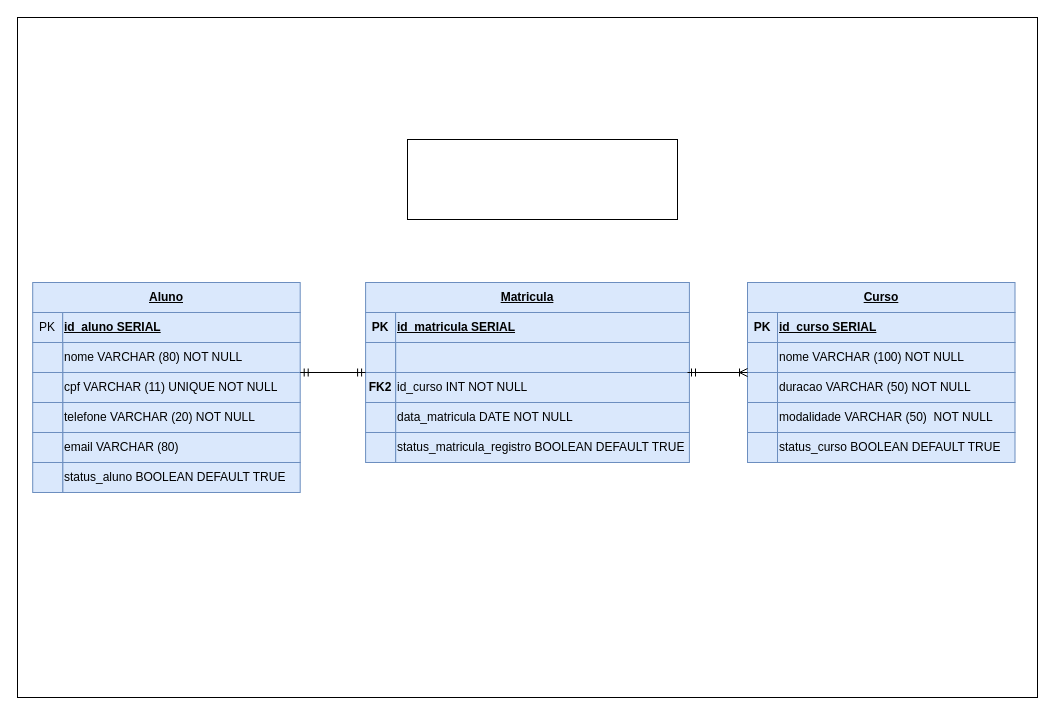
This 1055x715 diagram has some shape labels left out. The centre of each missing label's shape, as x and y in pixels:
DER: point (542, 179)
FK1: point (380, 357)
id_aluno INT NULL: point (542, 357)
